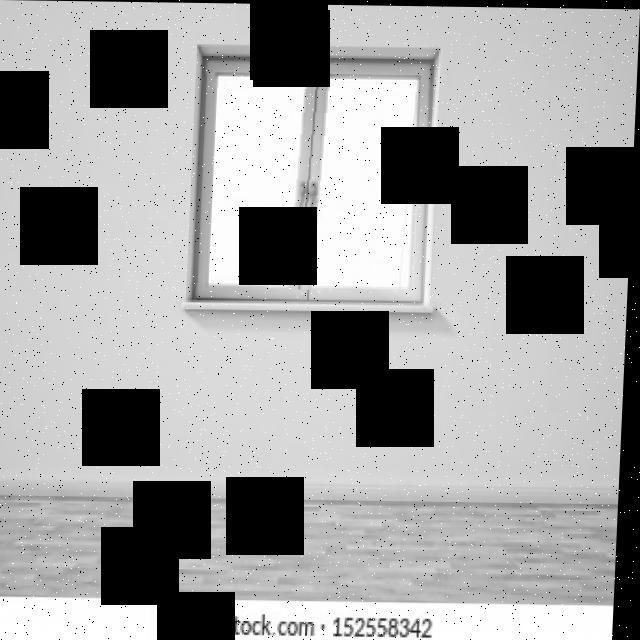Window: (210, 76, 420, 290)
